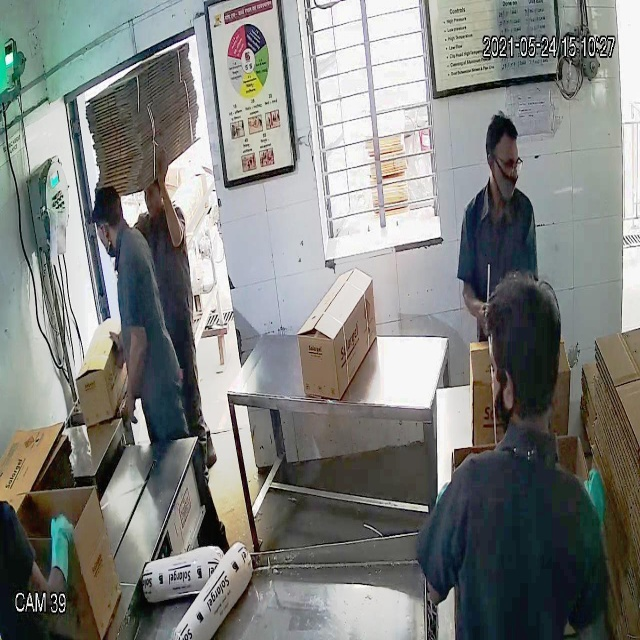Gafas: (483, 143, 526, 184)
